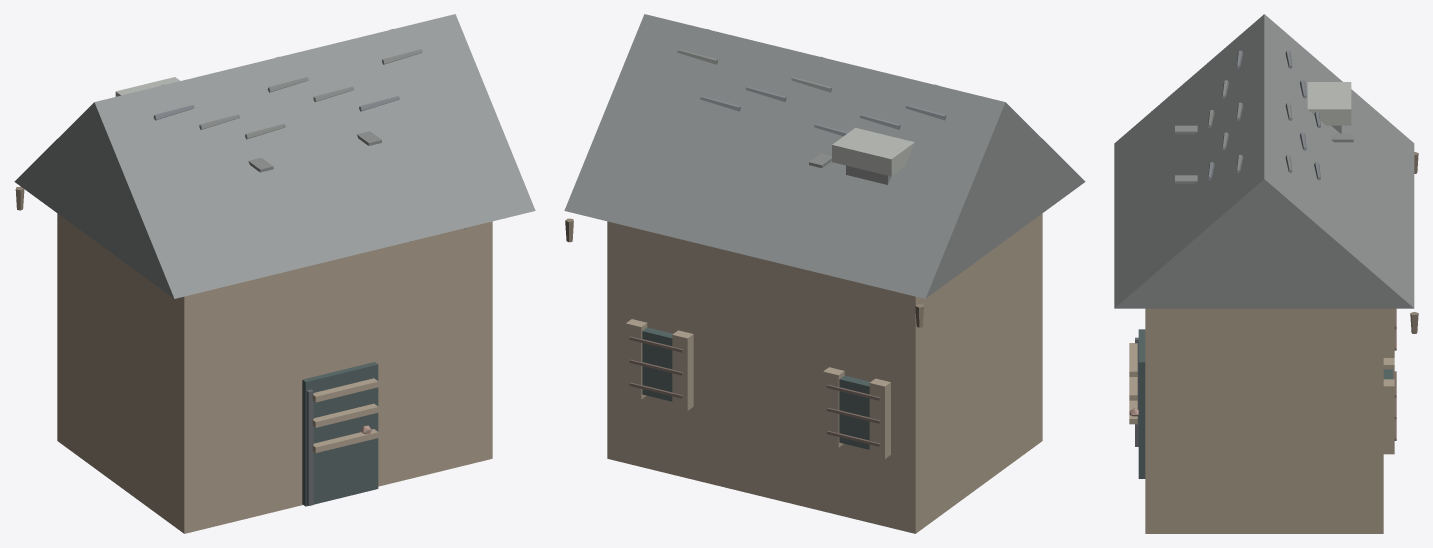
The model's file is hollow_granary.glb.
3 views of the same model, side by side, from view 1: azimuth 30°, elevation 25°; view 2: azimuth 150°, elevation 25°; view 3: azimuth 270°, elevation 25° (orthographic). The views are drawn at different scales.
Parts seen in each view (by area): view 1: hollow_granary_material_00, hollow_granary_material_05, hollow_granary_material_02, hollow_granary_material_03, hollow_granary_material_06; view 2: hollow_granary_material_00, hollow_granary_material_05, hollow_granary_material_02, hollow_granary_material_09, hollow_granary_material_01, hollow_granary_material_07, hollow_granary_material_06; view 3: hollow_granary_material_05, hollow_granary_material_00, hollow_granary_material_09, hollow_granary_material_02, hollow_granary_material_06, hollow_granary_material_07.
Part boxes in pixels (x1,y1,x2,y2): hollow_granary_material_00: [57, 213, 492, 533]; hollow_granary_material_05: [14, 14, 535, 298]; hollow_granary_material_02: [302, 362, 378, 506]; hollow_granary_material_03: [306, 389, 313, 505]; hollow_granary_material_06: [245, 29, 505, 241]; hollow_granary_material_00: [607, 213, 1042, 533]; hollow_granary_material_05: [564, 14, 1085, 298]; hollow_granary_material_02: [642, 327, 870, 449]; hollow_granary_material_09: [832, 127, 914, 176]; hollow_granary_material_01: [629, 336, 880, 446]; hollow_granary_material_07: [700, 84, 946, 136]; hollow_granary_material_06: [677, 49, 890, 263]; hollow_granary_material_05: [1114, 14, 1414, 308]; hollow_granary_material_00: [1129, 308, 1394, 533]; hollow_granary_material_09: [1307, 82, 1351, 125]; hollow_granary_material_02: [1138, 329, 1392, 478]; hollow_granary_material_06: [1175, 110, 1353, 183]; hollow_granary_material_07: [1208, 50, 1320, 180].
Size of the model in its own units: 3.28 by 3.4 by 2.56.
